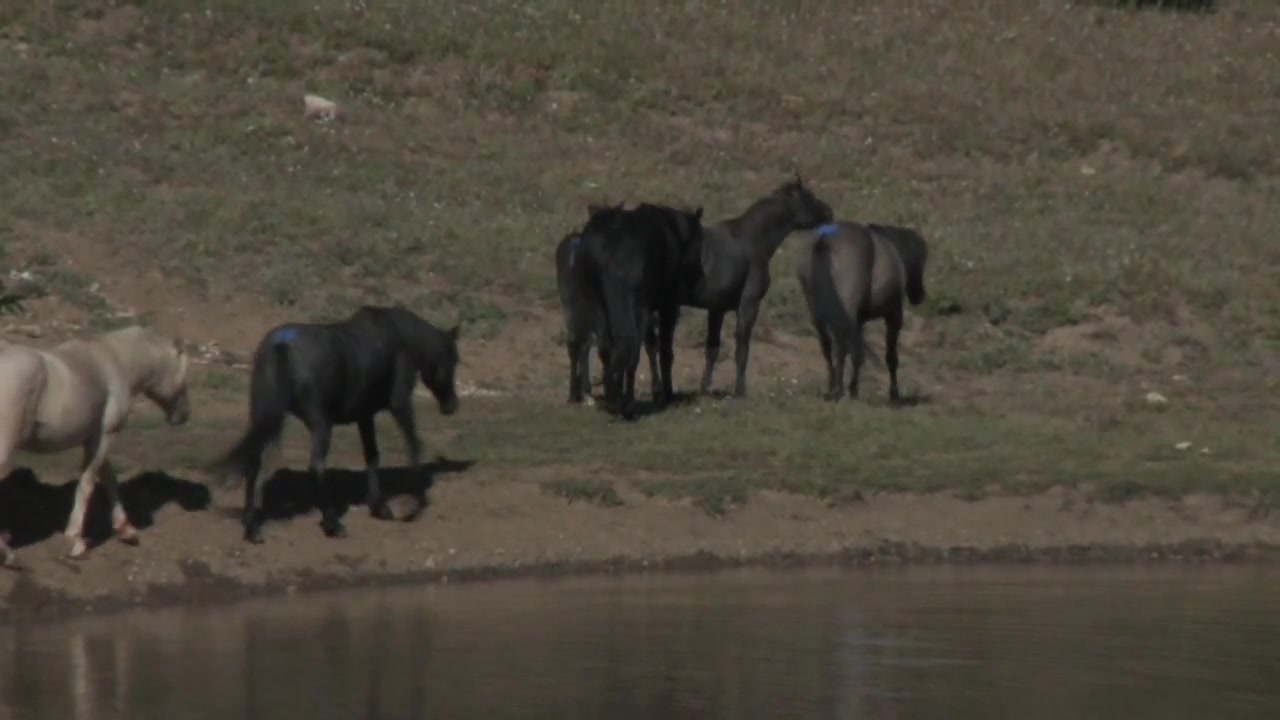horse: (207, 303, 465, 548), (1, 321, 202, 563), (644, 168, 836, 403), (553, 203, 719, 420), (796, 221, 941, 409)
